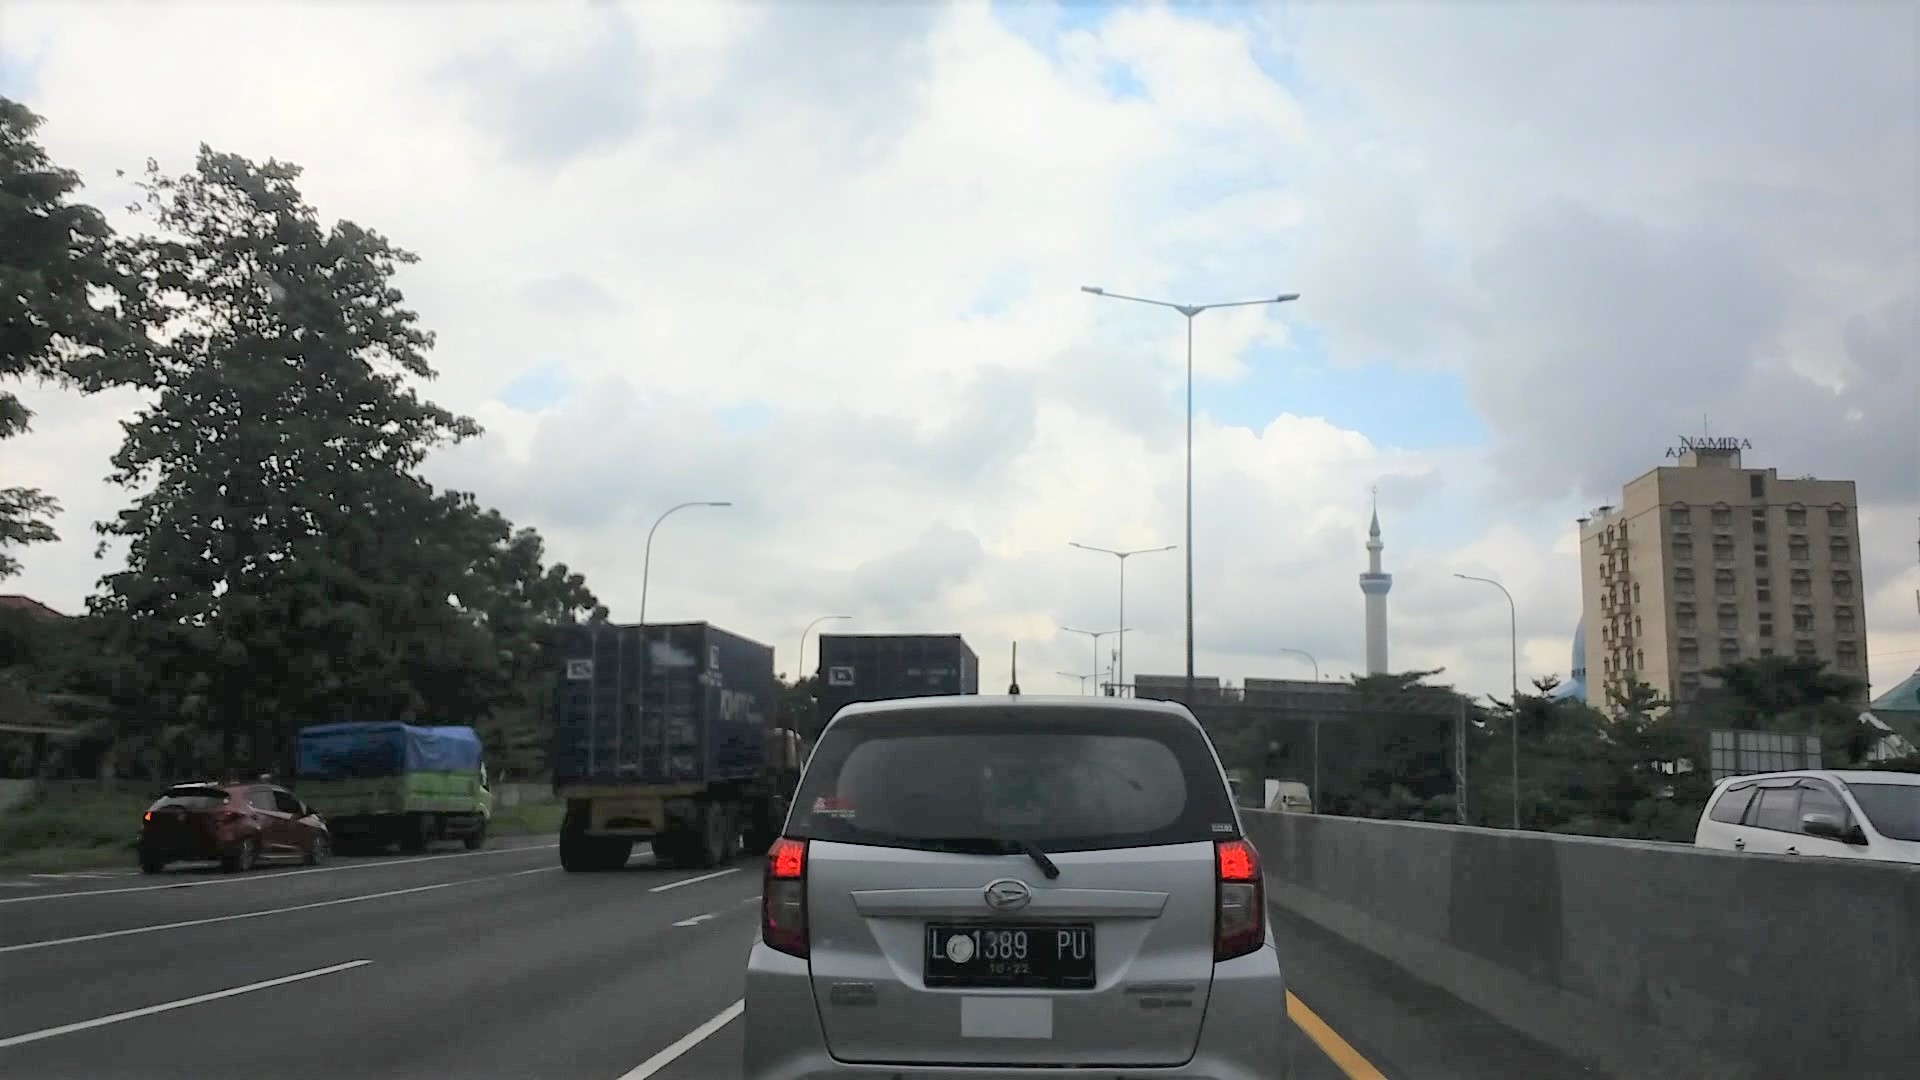plate_positive: (924, 920, 1097, 989)
